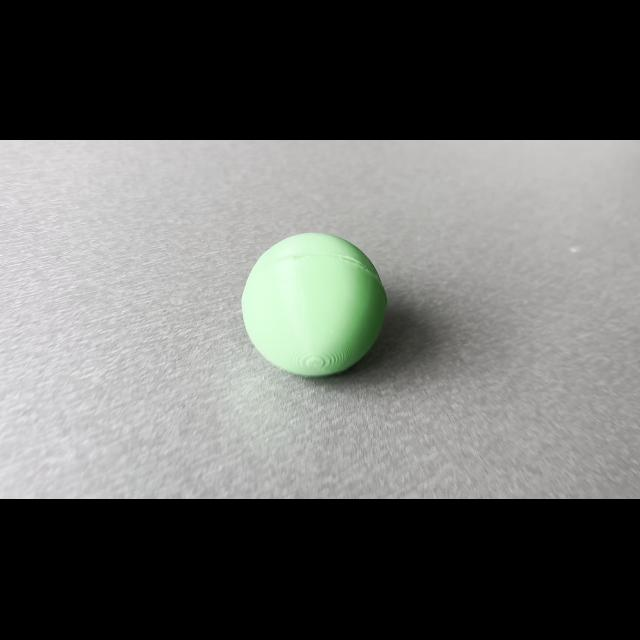objects: (237, 224, 397, 388)
